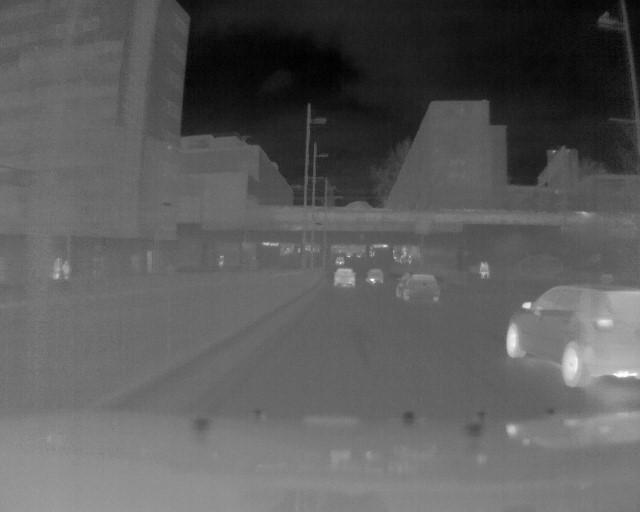car: (507, 284, 640, 389), (395, 269, 440, 304), (333, 266, 358, 292), (366, 265, 386, 290)
person: (51, 256, 62, 284), (481, 260, 489, 282)
